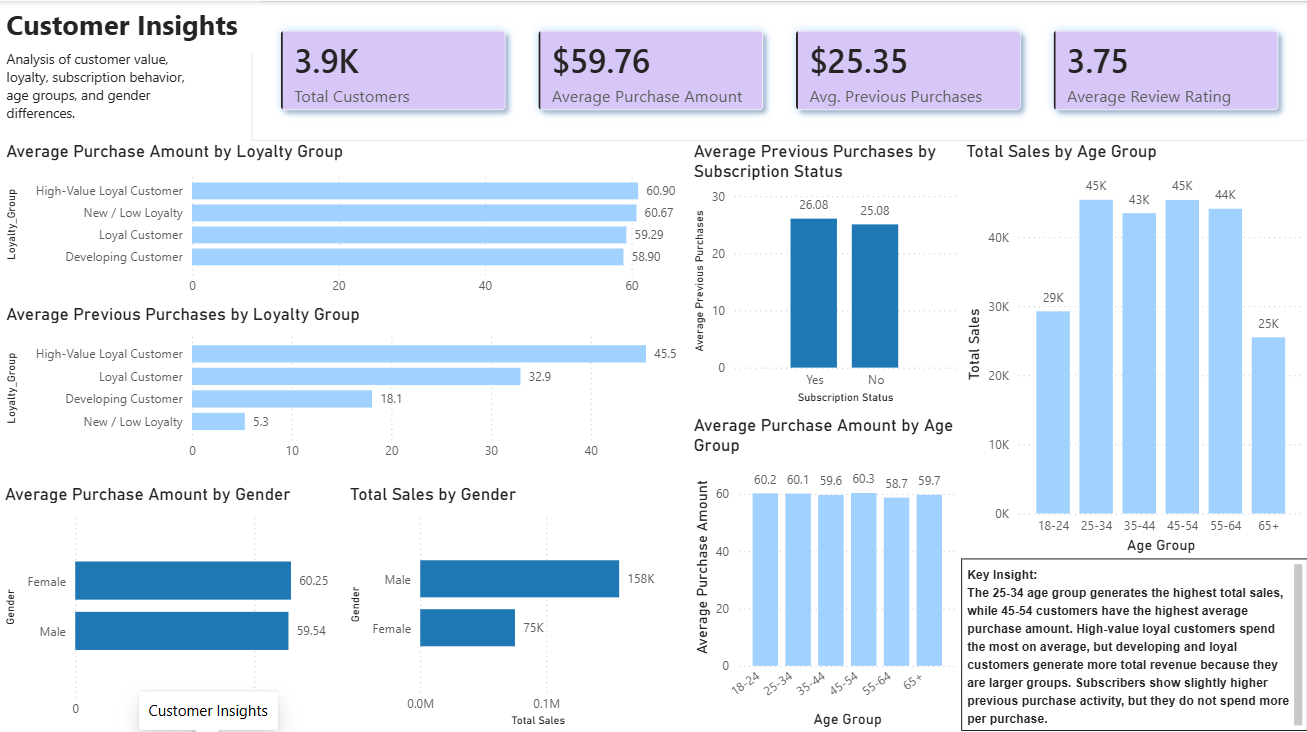

Layout of this report page (visuals, bound fields, positions):
{"tool":"powerbi","page":{"name":"Customer Insights","canvas":[1280,720],"ordinal":1},"visuals":[{"type":"cardVisual","fields":{"Data":["Measures (2).Total Customers","Measures (2).Average Purchase Amount","Measures (2).Average Previous Purchases","Measures (2).Average Review Rating"]},"box":[245.8,0,1034.5,137],"z":0},{"type":"clusteredColumnChart","title":"Total Sales by Age Group","fields":{"Category":["shopping_trends_cleaned.Age_Group"],"Y":["Measures (2).Total Sales"]},"box":[940.4,137,339.9,408.4],"z":1},{"type":"clusteredColumnChart","title":"Average Purchase Amount by Age Group","fields":{"Category":["shopping_trends_cleaned.Age_Group"],"Y":["Measures (2).Average Purchase Amount"]},"box":[673.8,404.8,266.6,310.6],"z":2},{"type":"clusteredBarChart","fields":{"Category":["shopping_trends_cleaned.Gender"],"Y":["Measures (2).Total Sales"]},"box":[337.5,472,324.1,243.3],"z":3},{"type":"clusteredBarChart","fields":{"Category":["shopping_trends_cleaned.Gender"],"Y":["Measures (2).Average Purchase Amount"]},"box":[0,472,337.5,248.2],"z":4},{"type":"clusteredBarChart","title":"Average Purchase Amount by Loyalty Group","fields":{"Category":["shopping_trends_cleaned.Loyalty_Group"],"Y":["Measures (2).Average Purchase Amount"]},"box":[1.2,137,673.8,160.2],"z":5},{"type":"clusteredBarChart","title":"Average Previous Purchases by Loyalty Group","fields":{"Category":["shopping_trends_cleaned.Loyalty_Group"],"Y":["Measures (2).Average Previous Purchases"]},"box":[1.2,295.9,673.8,162.6],"z":6},{"type":"clusteredColumnChart","title":"Average Previous Purchases by Subscription Status","fields":{"Category":["shopping_trends_cleaned.Subscription_Status"],"Y":["Measures (2).Average Previous Purchases"]},"box":[673.8,137,266.6,261.7],"z":7},{"type":"textbox","box":[940.4,545.4,339.9,170],"z":8},{"type":"textbox","box":[1.2,0,254.3,51.4],"z":9},{"type":"textbox","box":[1.2,42.8,196.9,85.6],"z":10}]}

Visuals, with their boxes in screenshot pixels (x1, y1, x2, y2), scaled from the page's 1280x720 canvas onto the 1307x732 screenshot:
cardVisual - Measures (2).Total Customers x Measures (2).Average Purchase Amount: bbox=[251, 0, 1306, 139]
"Total Sales by Age Group" clusteredColumnChart: bbox=[960, 139, 1306, 554]
"Average Purchase Amount by Age Group" clusteredColumnChart: bbox=[688, 412, 960, 727]
clusteredBarChart - shopping_trends_cleaned.Gender x Measures (2).Total Sales: bbox=[345, 480, 676, 727]
clusteredBarChart - shopping_trends_cleaned.Gender x Measures (2).Average Purchase Amount: bbox=[0, 480, 345, 731]
"Average Purchase Amount by Loyalty Group" clusteredBarChart: bbox=[1, 139, 689, 302]
"Average Previous Purchases by Loyalty Group" clusteredBarChart: bbox=[1, 301, 689, 466]
"Average Previous Purchases by Subscription Status" clusteredColumnChart: bbox=[688, 139, 960, 405]
textbox: bbox=[960, 554, 1306, 727]
textbox: bbox=[1, 0, 261, 52]
textbox: bbox=[1, 44, 202, 131]
